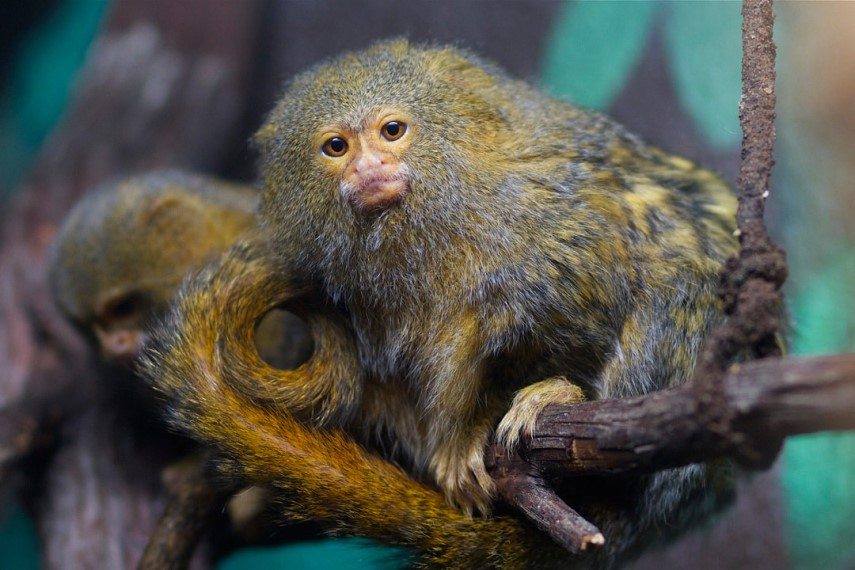PygmyMarmoset: (247, 54, 727, 388), (61, 187, 259, 400)
